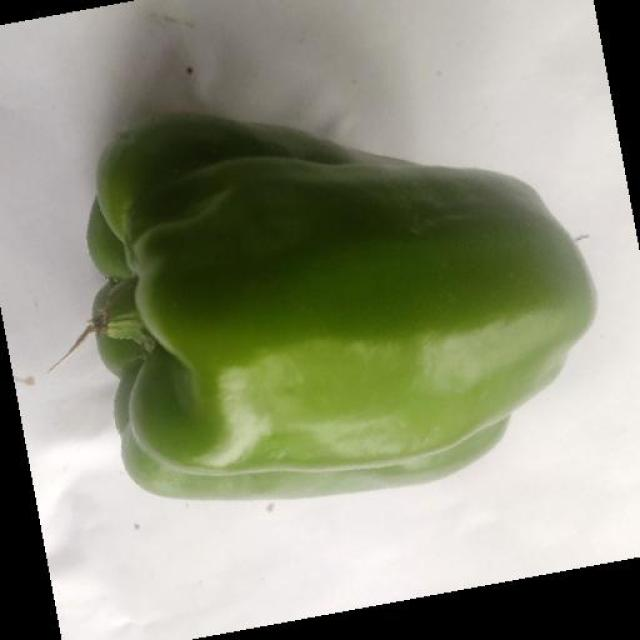Fresh_Capsicum: (86, 96, 585, 502)
